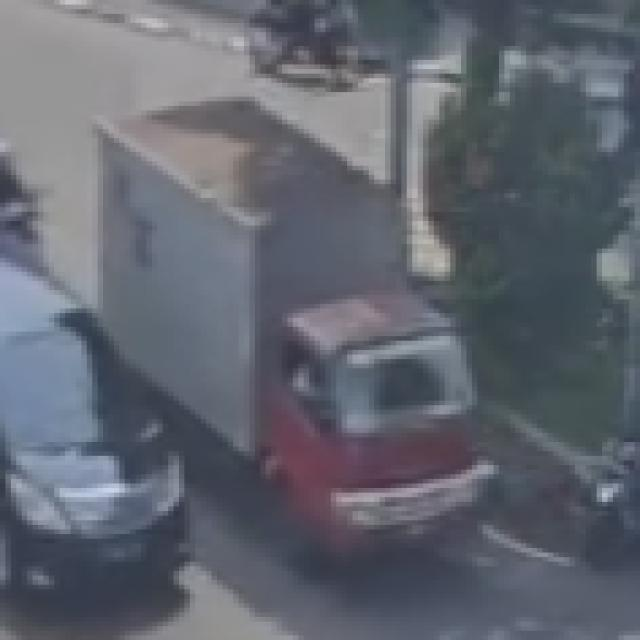car: (0, 235, 184, 594)
truck: (82, 70, 528, 578)
